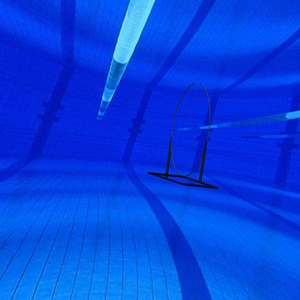circle: (150, 82, 221, 192)
